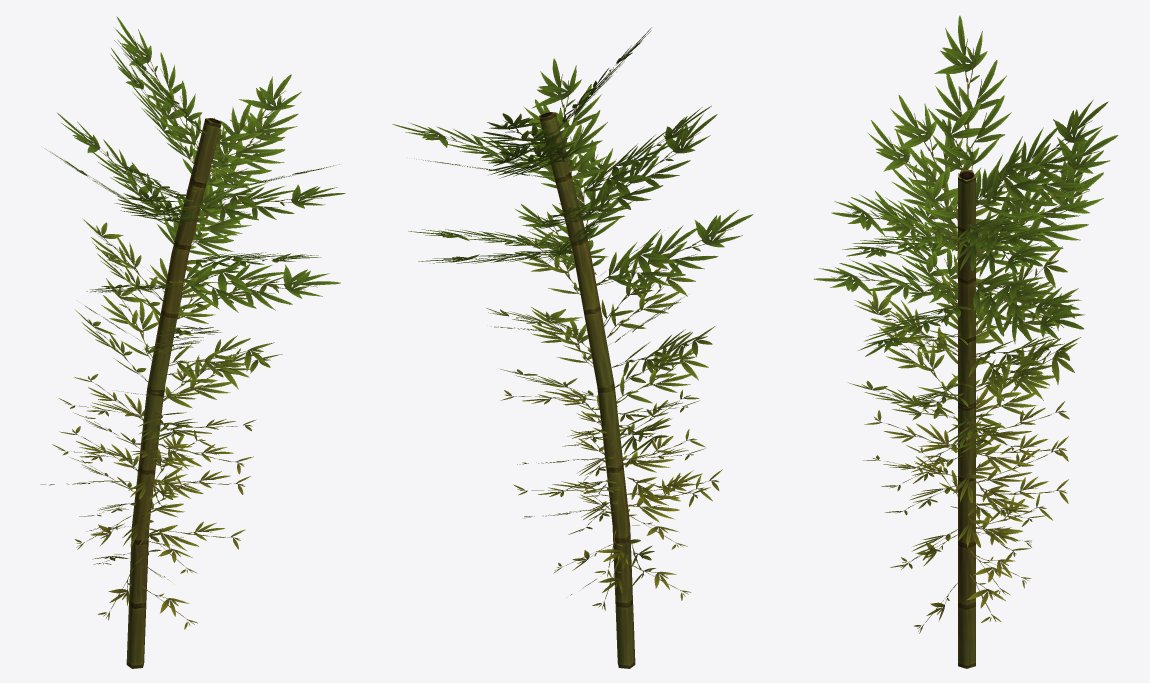
Rendered from bamboo_tree_xlarge.FBX.
3 views of the same model, side by side, from view 1: azimuth 30°, elevation 25°; view 2: azimuth 150°, elevation 25°; view 3: azimuth 270°, elevation 25° (orthographic).
Parts seen in each view (by area): view 1: bamboo_tree_xlarge; view 2: bamboo_tree_xlarge; view 3: bamboo_tree_xlarge.
Part boxes in pixels (<box>): bamboo_tree_xlarge: <box>40,16,345,668</box>; bamboo_tree_xlarge: <box>392,27,753,668</box>; bamboo_tree_xlarge: <box>813,15,1118,668</box>.
Size of the model in its own units: 650 by 1211 by 590.
